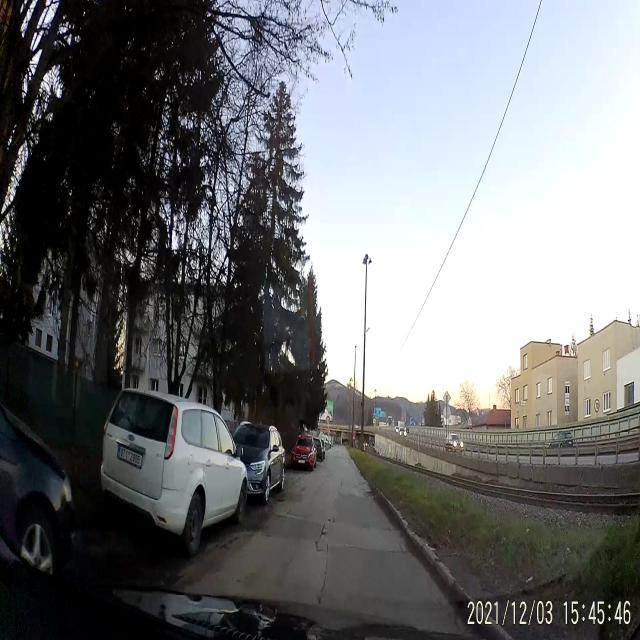Pothole: (316, 523, 328, 553)
